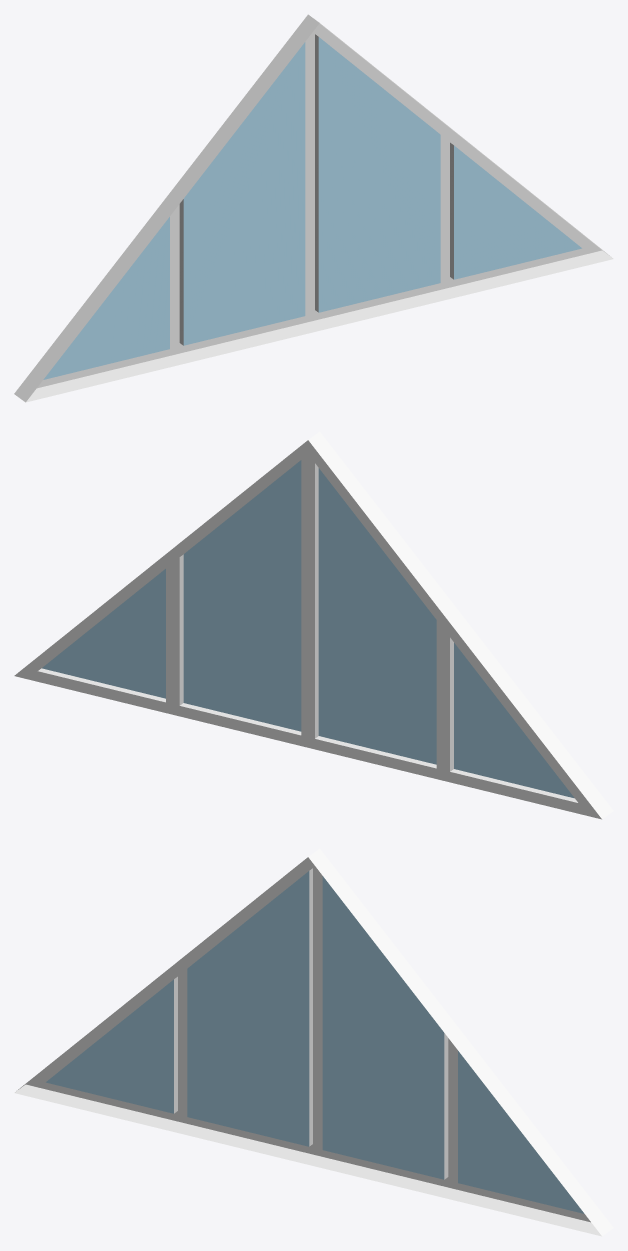
The model's file is FourRoofFrontWindow.fbx.
3 views of the same model, one above another, from view 1: azimuth 30°, elevation 25°; view 2: azimuth 150°, elevation 25°; view 3: azimuth 330°, elevation 25° (orthographic).
Visible parts, largest first — view 1: FourRoofFrontWindow_LOD0; view 2: FourRoofFrontWindow_LOD0; view 3: FourRoofFrontWindow_LOD0.
Part boxes in pixels (x1,y1,x2,y2): FourRoofFrontWindow_LOD0: (14,14,613,402); FourRoofFrontWindow_LOD0: (14,431,613,819); FourRoofFrontWindow_LOD0: (14,848,613,1236).
Size of what is drawn, in the model's own units: 870 by 435 by 30.
